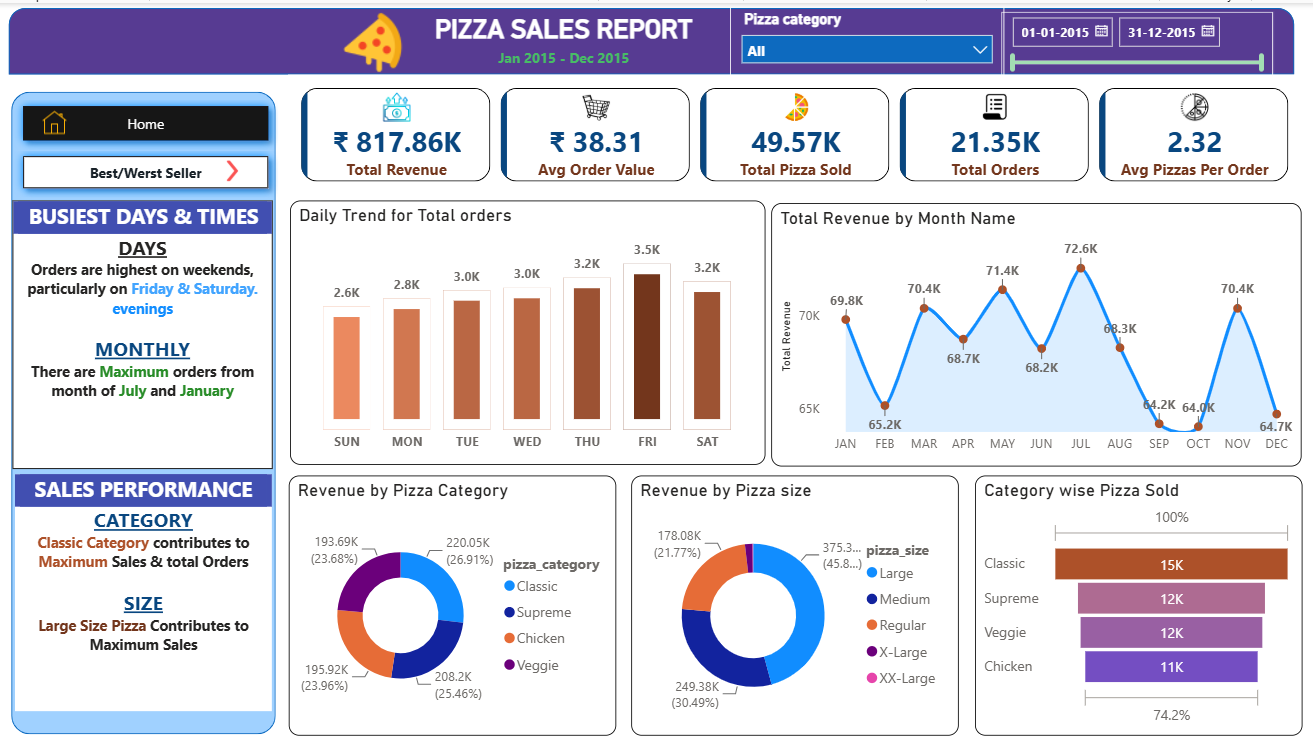

What the dashboard file says about the page in this screenshot:
{"tool":"powerbi","page":{"name":"Home","canvas":[1280,720],"ordinal":0},"visuals":[{"type":"group","id":"g1","title":"Group 3","box":[10.8,85.3,254.6,618.4],"z":0},{"type":"shape","box":[10.8,85.3,254.6,618.4],"z":1000,"group":"g1"},{"type":"areaChart","fields":{"Category":["Date Table.Month Name"],"Y":["Pizza_Sales_Data.Total Revenue"]},"box":[742.2,192,510.8,253.5],"z":1000},{"type":"group","id":"g2","title":"Group 1","box":[9,5.2,1237.2,64],"z":2000},{"type":"shape","box":[9,5.2,1237.2,64],"z":2000,"group":"g2"},{"type":"textbox","title":"PIZZA SALES REPORT","box":[398.4,10.8,288.8,52],"z":3000,"group":"g2"},{"type":"textbox","title":"BUSIEST DAYS & TIMES","box":[11.5,189.7,250.7,258.6],"z":3000},{"type":"slicer","fields":{"Values":["Pizza_Sales_Data.pizza_category"]},"box":[702,1.1,264,68.6],"z":4000},{"type":"textbox","title":"SALES PERFORMANCE","box":[14.8,454.1,247.2,228.4],"z":5000},{"type":"slicer","fields":{"Values":["Date Table.Date"]},"box":[964,8.1,261.6,62.8],"z":6000},{"type":"image","box":[309.3,5.8,98.8,64],"z":7000},{"type":"columnChart","title":" Daily Trend for Total orders","fields":{"Y":["Pizza_Sales_Data.Total Orders"],"Category":["Date Table.Day Name"]},"box":[279.4,189.7,457.5,254.6],"z":8000},{"type":"donutChart","title":"Revenue by Pizza Category","fields":{"Category":["Pizza_Sales_Data.pizza_category"],"Y":["Pizza_Sales_Data.Total Revenue"]},"box":[277.6,454.3,315.5,250.3],"z":9000},{"type":"donutChart","title":"Revenue by Pizza size","fields":{"Y":["Pizza_Sales_Data.Total Revenue"],"Category":["Pizza_Sales_Data.pizza_size"]},"box":[607.4,454.3,315,250.3],"z":10000},{"type":"funnel","title":"Category wise Pizza Sold","fields":{"Category":["Pizza_Sales_Data.pizza_category"],"Y":["Pizza_Sales_Data.Total Pizza Sold"]},"box":[938.3,454.3,315,250.3],"z":11000},{"type":"cardVisual","fields":{"Data":["Pizza_Sales_Data.Total_Revenue","Pizza_Sales_Data.Avg_Order_Value","Pizza_Sales_Data.Total_Pizza_Sold","Pizza_Sales_Data.Total_Orders","Pizza_Sales_Data.Avg_Pizzas_per_Order"]},"box":[278.2,70.2,974.8,114.5],"z":12000},{"type":"pageNavigator","box":[12.8,137.8,254.1,49.7],"z":13000},{"type":"pageNavigator","box":[12.8,90.3,254.1,51.9],"z":14000},{"type":"image","box":[32.7,103.9,39.5,23.7],"z":15000},{"type":"image","box":[199.9,149,47.4,24.8],"z":16000}]}

Visuals, with their boxes in screenshot pixels (x1, y1, x2, y2), scaled from the page's 1280x720 canvas onto the 1313x745 screenshot:
"Group 3" group: select_region(11, 88, 272, 728)
shape: select_region(11, 88, 272, 728)
areaChart - Date Table.Month Name x Pizza_Sales_Data.Total Revenue: select_region(761, 199, 1285, 461)
"Group 1" group: select_region(9, 5, 1278, 72)
shape: select_region(9, 5, 1278, 72)
"PIZZA SALES REPORT" textbox: select_region(409, 11, 705, 65)
"BUSIEST DAYS & TIMES" textbox: select_region(12, 196, 269, 464)
slicer - Pizza_Sales_Data.pizza_category: select_region(720, 1, 991, 72)
"SALES PERFORMANCE" textbox: select_region(15, 470, 269, 706)
slicer - Date Table.Date: select_region(989, 8, 1257, 73)
image: select_region(317, 6, 419, 72)
" Daily Trend for Total orders" columnChart: select_region(287, 196, 756, 460)
"Revenue by Pizza Category" donutChart: select_region(285, 470, 608, 729)
"Revenue by Pizza size" donutChart: select_region(623, 470, 946, 729)
"Category wise Pizza Sold" funnel: select_region(962, 470, 1286, 729)
cardVisual - Pizza_Sales_Data.Total_Revenue x Pizza_Sales_Data.Avg_Order_Value: select_region(285, 73, 1285, 191)
pageNavigator: select_region(13, 143, 274, 194)
pageNavigator: select_region(13, 93, 274, 147)
image: select_region(34, 108, 74, 132)
image: select_region(205, 154, 254, 180)
